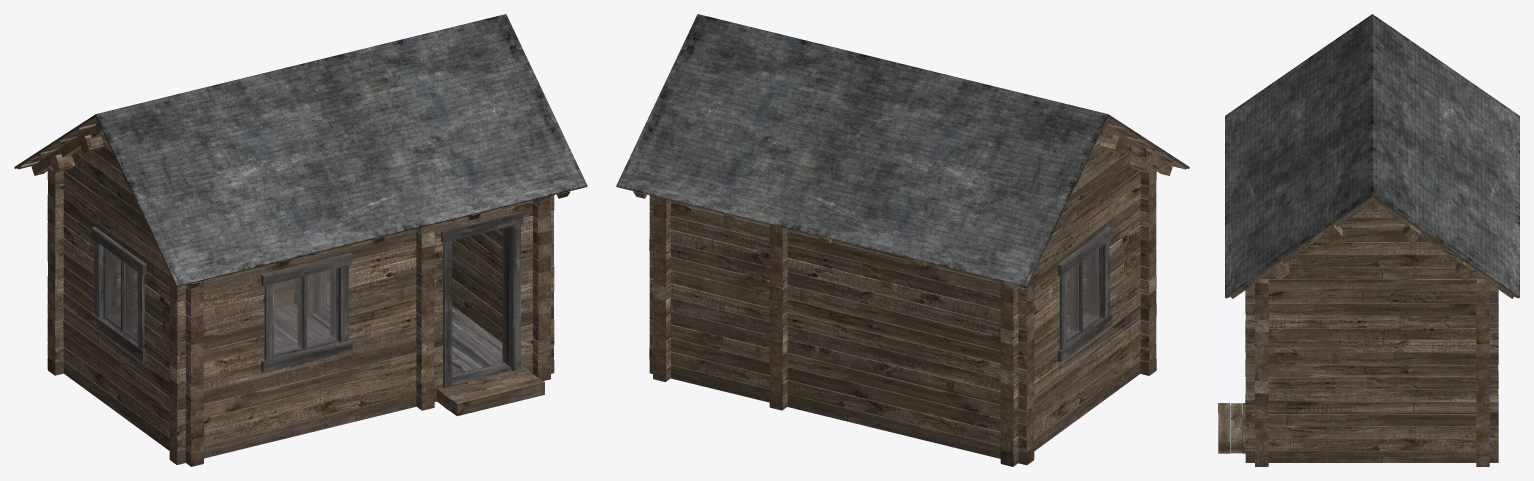
File: log-cabin.lod0.glb
The picture shows the model from 3 angles, left to right: view 1: azimuth 30°, elevation 25°; view 2: azimuth 150°, elevation 25°; view 3: azimuth 270°, elevation 25°; orthographic projection. The views are drawn at different scales.
Visible parts, largest first — view 1: Base_Roof_0, Base_Wood1a_0, Base_Wood1b_0, Base_Wood2_0, Base_WoodEnds_0, Base_Glass_0; view 2: Base_Roof_0, Base_Wood1a_0, Base_Wood1b_0, Base_WoodEnds_0, Base_Wood2_0, Base_Glass_0; view 3: Base_Roof_0, Base_Wood1b_0, Base_Wood1a_0, Base_WoodEnds_0.
Part boxes in pixels (x1=…): Base_Roof_0: x1=14, y1=14, x2=587, y2=286; Base_Wood1a_0: x1=17, y1=124, x2=570, y2=452; Base_Wood1b_0: x1=14, y1=115, x2=586, y2=466; Base_Wood2_0: x1=91, y1=211, x2=523, y2=387; Base_WoodEnds_0: x1=47, y1=118, x2=569, y2=466; Base_Glass_0: x1=105, y1=248, x2=336, y2=354; Base_Roof_0: x1=616, y1=14, x2=1189, y2=286; Base_Wood1a_0: x1=633, y1=124, x2=1186, y2=452; Base_Wood1b_0: x1=616, y1=115, x2=1189, y2=465; Base_WoodEnds_0: x1=633, y1=118, x2=1156, y2=466; Base_Wood2_0: x1=1057, y1=227, x2=1112, y2=361; Base_Glass_0: x1=1066, y1=248, x2=1098, y2=339; Base_Roof_0: x1=1225, y1=14, x2=1519, y2=297; Base_Wood1b_0: x1=1218, y1=196, x2=1519, y2=462; Base_Wood1a_0: x1=1228, y1=201, x2=1516, y2=450; Base_WoodEnds_0: x1=1255, y1=198, x2=1489, y2=466.
Size of the model in its own units: 6.3 by 4.51 by 4.43.
6 materials, 6 textured.
